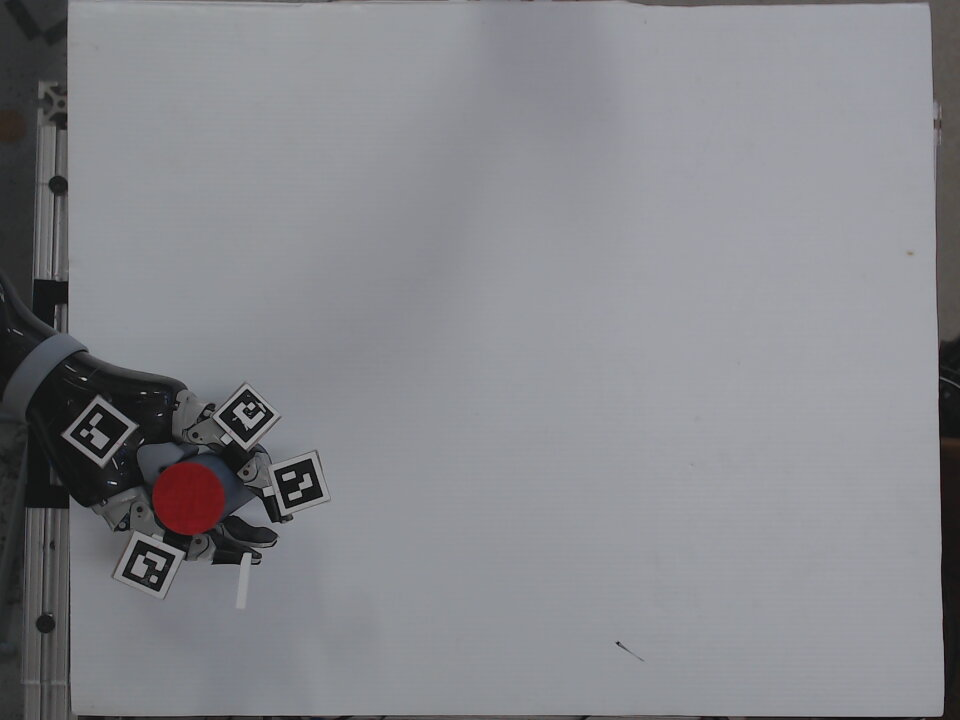cylinder: (149, 443, 274, 539)
